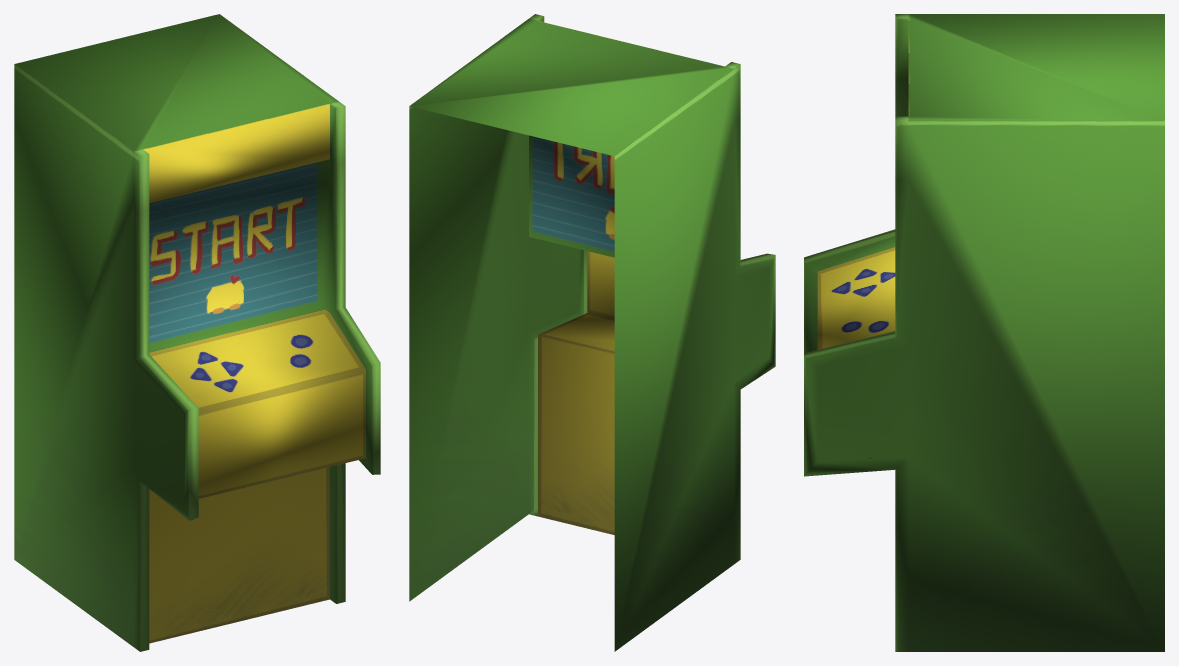
The model's file is MaquinitaT.fbx.
3 renders of one model, left to right at view 1: azimuth 30°, elevation 25°; view 2: azimuth 150°, elevation 25°; view 3: azimuth 270°, elevation 25°, orthographic. The views are drawn at different scales.
Parts seen in each view (by area): view 1: Box001; view 2: Box001; view 3: Box001.
Part boxes in pixels (x1,y1,x2,y2): Box001: (14,14,380,651); Box001: (409,14,775,651); Box001: (804,14,1164,651).
Size of the model in its own units: 35.77 by 82.48 by 50.84.
1 material, 1 textured.
